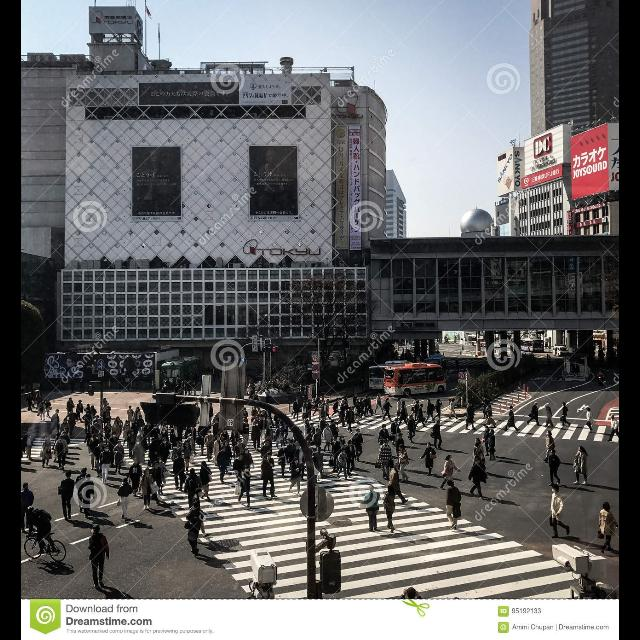head: (602, 502, 612, 511), (304, 384, 308, 402), (26, 508, 34, 516), (474, 458, 482, 466), (552, 485, 560, 493), (447, 479, 455, 486), (94, 525, 100, 533), (196, 488, 202, 496), (267, 452, 273, 460), (550, 449, 556, 456), (94, 414, 100, 420), (140, 430, 146, 436), (158, 458, 164, 464), (154, 462, 160, 468), (112, 432, 118, 438), (123, 478, 129, 484), (82, 468, 88, 474), (66, 471, 72, 477), (23, 483, 29, 489), (194, 503, 200, 509), (190, 469, 196, 475), (222, 446, 228, 452), (238, 454, 244, 460), (244, 449, 250, 455), (244, 466, 250, 472), (252, 406, 258, 412), (294, 458, 300, 464), (340, 436, 346, 442), (348, 440, 354, 446), (356, 428, 362, 434), (394, 464, 400, 470), (388, 486, 394, 492), (382, 424, 388, 430), (448, 455, 454, 461), (547, 430, 553, 436), (579, 446, 585, 452), (146, 468, 150, 476), (146, 422, 152, 426), (131, 429, 135, 435), (159, 434, 163, 440), (162, 428, 166, 434), (178, 452, 182, 458), (134, 458, 138, 464), (118, 440, 122, 446), (114, 420, 118, 426), (100, 441, 104, 447), (106, 446, 110, 452), (86, 474, 90, 480), (56, 434, 62, 438), (64, 418, 68, 424), (202, 462, 206, 468), (177, 442, 181, 448), (185, 440, 189, 446), (208, 430, 212, 436), (238, 439, 242, 445), (266, 436, 272, 440), (279, 424, 283, 430), (282, 443, 286, 449), (317, 428, 321, 434), (311, 441, 315, 447), (330, 420, 336, 424), (334, 436, 338, 442), (342, 449, 346, 455), (563, 402, 567, 408), (370, 485, 374, 491), (383, 440, 389, 444), (400, 445, 404, 451), (399, 434, 403, 440), (394, 420, 400, 424), (428, 443, 432, 449), (476, 438, 480, 444), (484, 427, 490, 431), (490, 428, 494, 434), (56, 409, 60, 413), (86, 411, 90, 415), (107, 409, 111, 413), (128, 406, 132, 410), (136, 408, 140, 412), (125, 420, 129, 424), (135, 419, 139, 423), (163, 438, 167, 442), (94, 420, 98, 424), (98, 434, 102, 438), (60, 436, 64, 440), (63, 431, 67, 435), (70, 410, 74, 414), (28, 430, 32, 434), (206, 427, 210, 431), (215, 420, 219, 424), (223, 429, 227, 433), (217, 436, 221, 440), (225, 442, 229, 446), (233, 430, 237, 434), (265, 441, 269, 445), (246, 420, 250, 424), (256, 422, 260, 426), (262, 415, 266, 419), (267, 417, 271, 421), (258, 411, 262, 415), (262, 410, 266, 414), (284, 414, 288, 418), (290, 440, 294, 444), (300, 446, 304, 450), (318, 448, 322, 452), (316, 397, 320, 401), (327, 399, 331, 403), (322, 416, 326, 420), (327, 424, 331, 428), (340, 405, 344, 409), (365, 395, 369, 399), (378, 393, 382, 397), (386, 398, 390, 402), (401, 405, 405, 409), (412, 408, 416, 412), (410, 416, 414, 420), (427, 399, 431, 403), (469, 406, 473, 410), (488, 405, 492, 409), (482, 397, 486, 401), (510, 406, 514, 410), (535, 402, 539, 406), (546, 404, 550, 408), (588, 407, 592, 411), (611, 415, 615, 419), (437, 421, 441, 425), (45, 436, 49, 440), (41, 402, 44, 406), (88, 431, 92, 434), (172, 429, 175, 433), (175, 426, 178, 430), (254, 406, 256, 412), (276, 411, 280, 414), (336, 398, 339, 402), (361, 399, 364, 403), (46, 400, 50, 402), (70, 398, 72, 402), (88, 404, 90, 408), (104, 398, 106, 402), (140, 415, 142, 419), (118, 417, 120, 421), (108, 421, 110, 425), (94, 436, 96, 440), (64, 428, 68, 430), (190, 435, 192, 439), (192, 424, 194, 428), (210, 402, 212, 406), (244, 408, 246, 412), (312, 424, 314, 428), (296, 400, 300, 402), (354, 394, 358, 396), (358, 404, 362, 406), (350, 407, 352, 411), (400, 398, 402, 402), (404, 402, 406, 406), (418, 401, 420, 405), (422, 404, 424, 408), (438, 399, 440, 403), (452, 400, 456, 402), (256, 391, 258, 395), (266, 388, 270, 390), (80, 401, 82, 404), (270, 426, 272, 429), (321, 400, 324, 402), (324, 401, 326, 404), (346, 396, 348, 399), (356, 400, 359, 402), (600, 371, 602, 374), (29, 394, 31, 396), (196, 404, 198, 406), (369, 396, 371, 398), (418, 402, 420, 404)
person: (25, 506, 57, 554), (88, 524, 110, 588), (549, 484, 571, 538), (183, 502, 204, 558), (358, 484, 382, 532), (597, 502, 619, 554), (190, 488, 212, 538), (384, 464, 410, 504), (138, 467, 160, 511), (183, 468, 203, 516), (58, 471, 76, 522), (468, 457, 488, 501), (116, 476, 134, 524), (260, 450, 278, 498), (375, 439, 395, 481), (446, 479, 462, 531), (234, 464, 252, 510), (440, 454, 462, 490), (78, 472, 95, 518), (572, 444, 590, 486), (75, 467, 91, 513), (21, 482, 35, 534), (126, 457, 144, 497), (383, 484, 397, 534), (394, 444, 411, 484), (198, 460, 214, 502), (172, 451, 188, 492), (420, 442, 438, 478), (148, 460, 162, 506), (156, 456, 172, 494), (53, 434, 69, 472), (98, 444, 112, 486), (288, 457, 302, 498), (93, 438, 107, 478), (328, 434, 342, 474), (343, 439, 357, 478), (196, 422, 212, 456), (232, 452, 246, 490), (548, 449, 562, 487), (240, 448, 256, 480), (181, 439, 195, 475), (473, 438, 487, 474), (312, 446, 324, 486), (112, 440, 126, 474), (22, 428, 36, 462), (232, 438, 246, 472), (39, 434, 53, 468), (504, 406, 522, 432), (88, 433, 100, 471), (216, 446, 228, 484), (108, 431, 120, 467), (260, 439, 272, 475), (261, 434, 273, 470), (52, 433, 66, 463), (336, 449, 349, 481), (221, 440, 233, 474), (286, 439, 298, 473), (352, 428, 364, 462), (544, 430, 556, 464), (137, 431, 149, 464), (170, 441, 182, 474), (47, 409, 61, 437), (65, 409, 79, 437), (388, 418, 402, 446), (431, 420, 444, 450), (159, 438, 171, 470), (204, 430, 216, 462), (212, 435, 224, 467), (526, 402, 542, 426), (378, 424, 390, 456), (481, 425, 493, 457), (278, 442, 288, 480), (158, 428, 170, 459), (422, 399, 436, 425), (84, 426, 96, 456), (59, 430, 71, 460), (228, 428, 240, 458), (250, 422, 262, 452), (278, 413, 290, 443), (296, 445, 306, 481), (317, 414, 329, 444), (396, 433, 406, 469), (94, 432, 105, 464), (321, 423, 333, 452), (466, 402, 478, 431), (344, 406, 356, 434), (397, 404, 411, 428), (482, 404, 496, 428), (184, 434, 196, 461), (328, 419, 340, 446), (188, 424, 198, 456), (337, 435, 347, 467), (59, 418, 71, 444), (560, 402, 572, 428), (126, 428, 136, 459), (407, 407, 417, 438), (488, 428, 497, 462), (154, 433, 164, 463), (60, 427, 70, 457), (312, 428, 322, 458), (308, 441, 318, 471), (407, 414, 417, 444), (122, 419, 132, 448), (82, 411, 94, 435), (92, 415, 104, 439), (112, 416, 124, 440), (335, 404, 347, 428), (374, 392, 386, 416), (382, 398, 394, 422), (416, 404, 428, 428), (543, 404, 555, 428), (585, 406, 595, 434), (90, 421, 102, 444), (112, 419, 122, 446), (312, 395, 324, 417), (408, 398, 420, 420), (432, 398, 443, 422), (168, 428, 178, 454), (212, 418, 222, 444), (220, 428, 230, 454), (264, 424, 274, 450), (275, 424, 285, 450), (448, 398, 459, 420), (130, 419, 140, 443), (242, 419, 250, 449), (291, 398, 301, 422), (330, 398, 342, 418), (480, 396, 490, 420), (132, 406, 142, 429), (308, 423, 316, 451), (65, 398, 75, 420), (136, 414, 146, 436), (192, 402, 202, 424), (323, 398, 333, 420), (352, 402, 362, 424), (400, 401, 410, 423), (272, 410, 284, 428), (251, 391, 261, 412), (104, 420, 112, 446), (172, 424, 180, 450), (36, 401, 46, 421), (102, 408, 111, 430), (76, 400, 84, 424), (144, 421, 152, 445), (207, 402, 215, 426), (362, 394, 370, 418), (396, 398, 404, 422), (24, 393, 34, 412), (241, 406, 249, 429), (83, 404, 91, 426), (127, 406, 135, 428), (251, 405, 259, 427), (264, 416, 272, 438), (320, 400, 328, 422), (342, 395, 350, 417), (366, 394, 374, 416), (413, 400, 421, 422), (256, 411, 264, 432), (45, 398, 53, 418), (250, 408, 258, 428), (260, 416, 266, 442), (352, 392, 358, 416), (318, 399, 324, 421), (355, 398, 361, 420), (359, 397, 365, 419), (103, 397, 109, 418), (261, 409, 267, 429), (597, 370, 605, 384), (265, 387, 271, 405), (304, 384, 308, 402)
